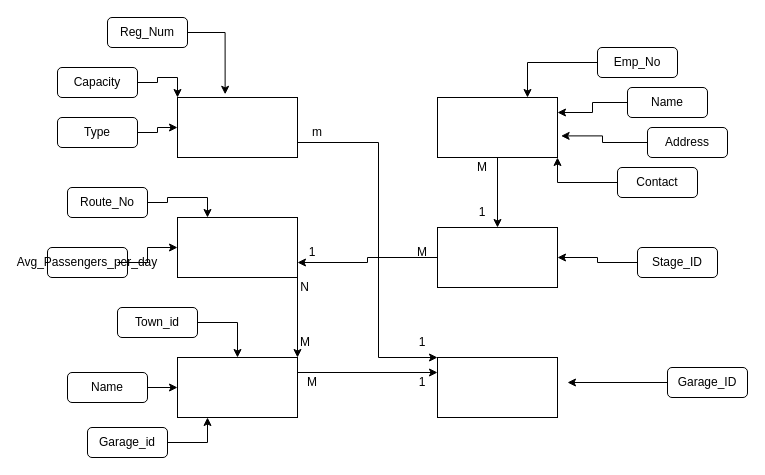
This 765x475 diagram has some shape labels left out. Each missing label, with the box of its shape:
Bus: (176, 96, 298, 158)
Driver: (436, 96, 558, 158)
Garage: (436, 356, 558, 418)
Route: (176, 216, 298, 278)
Stage: (436, 226, 558, 288)
Town: (176, 356, 298, 418)
